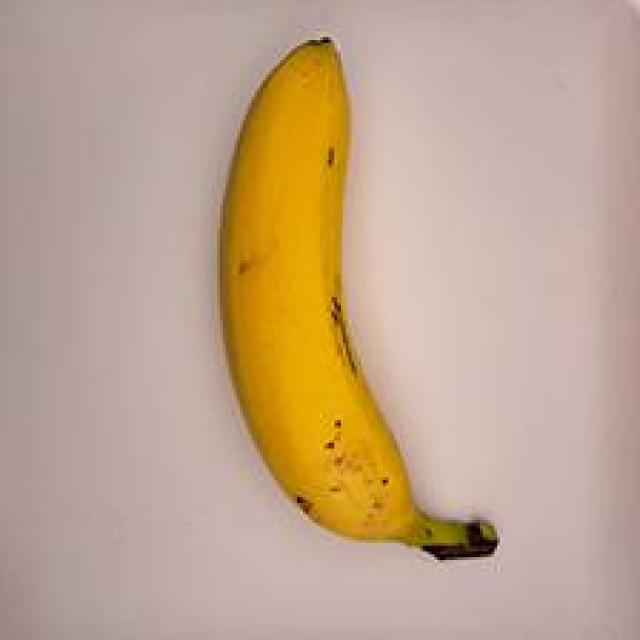ripe: (122, 11, 535, 589)
